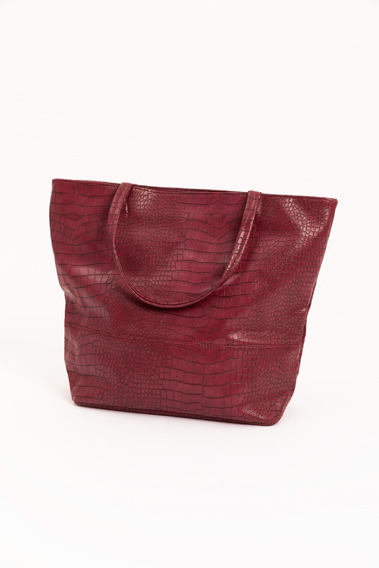cartera: (49, 176, 339, 429)
